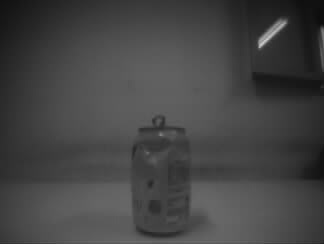Tin can: (128, 114, 193, 237)
